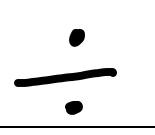div: (12, 29, 118, 116)
